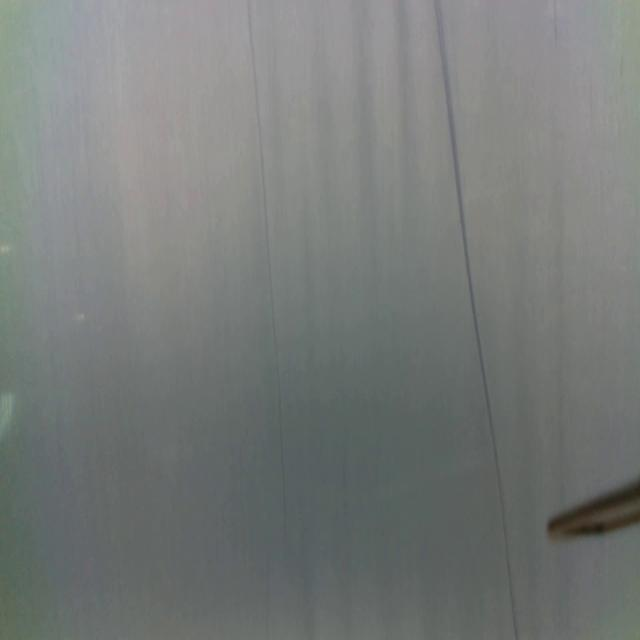crease: (434, 0, 519, 637), (245, 0, 289, 517)
